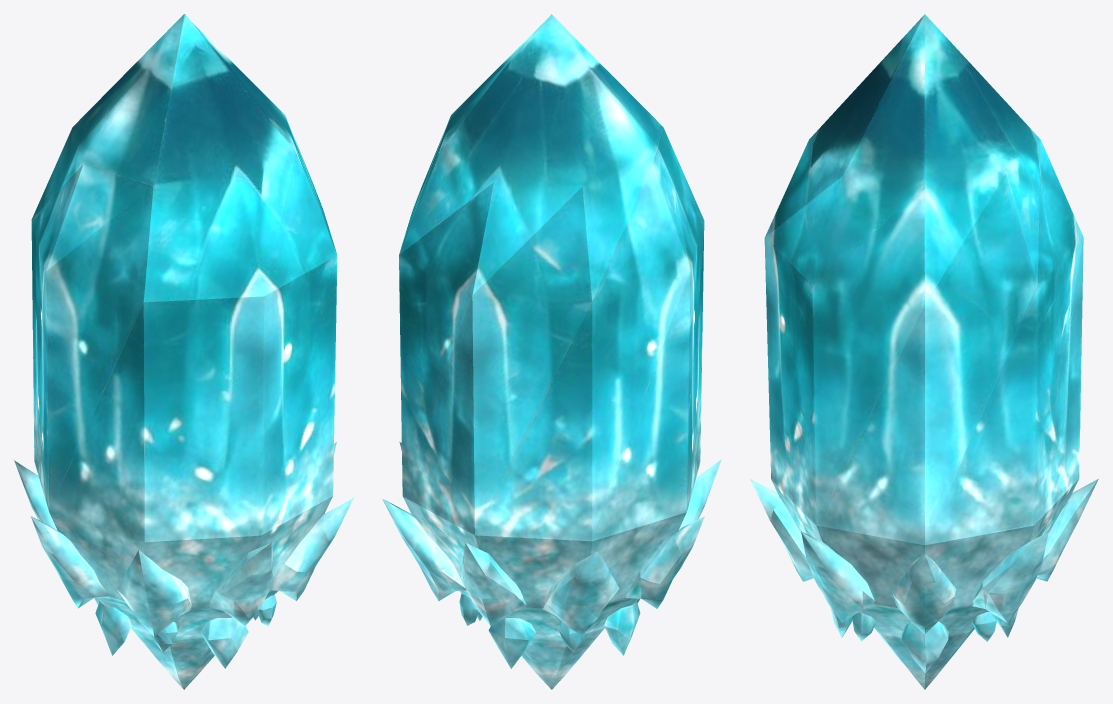
The model's file is crystal.glb.
3 views of the same model, side by side, from view 1: azimuth 30°, elevation 25°; view 2: azimuth 150°, elevation 25°; view 3: azimuth 270°, elevation 25° (orthographic).
Size of the model in its own units: 0.521 by 1.1 by 0.5146.
Materials: 1 (1 with a texture image).
